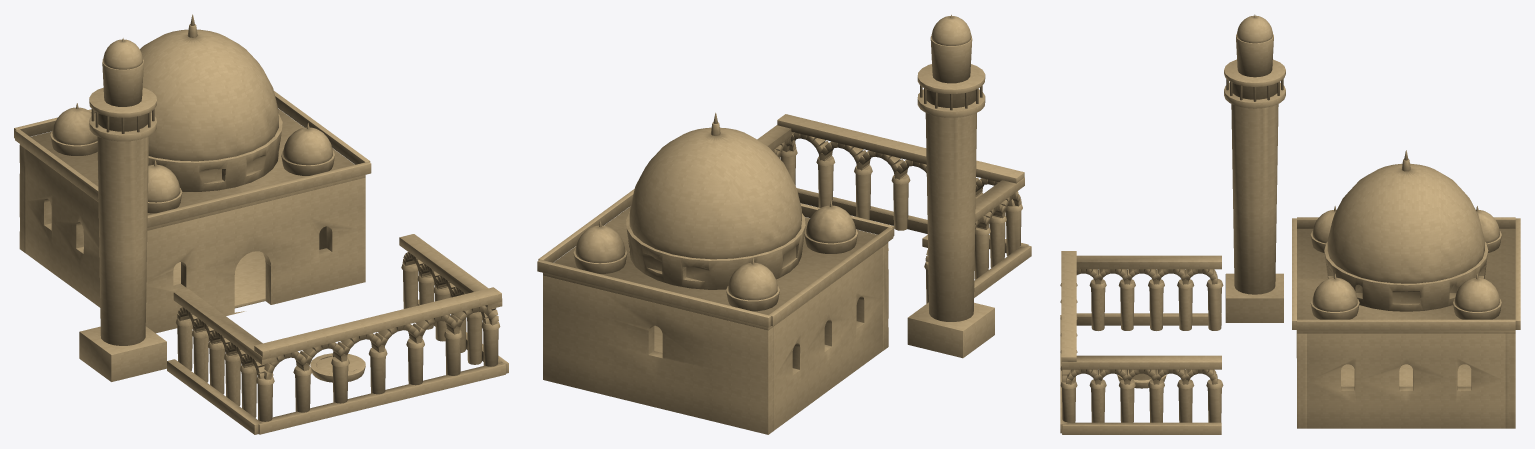
File: mosque.glb
The picture shows the model from 3 angles, left to right: view 1: azimuth 30°, elevation 25°; view 2: azimuth 150°, elevation 25°; view 3: azimuth 270°, elevation 25°; orthographic projection. The views are drawn at different scales.
Parts seen in each view (by area): view 1: mosque; view 2: mosque; view 3: mosque.
Boxes of the visible parts, x1,y1,x2,y2 form: mosque: (14, 14, 508, 434); mosque: (537, 14, 1031, 434); mosque: (1060, 14, 1520, 434).
Bounding box in the file's own units: 35.65 × 35.94 × 50.5.
1 material, 1 textured.
